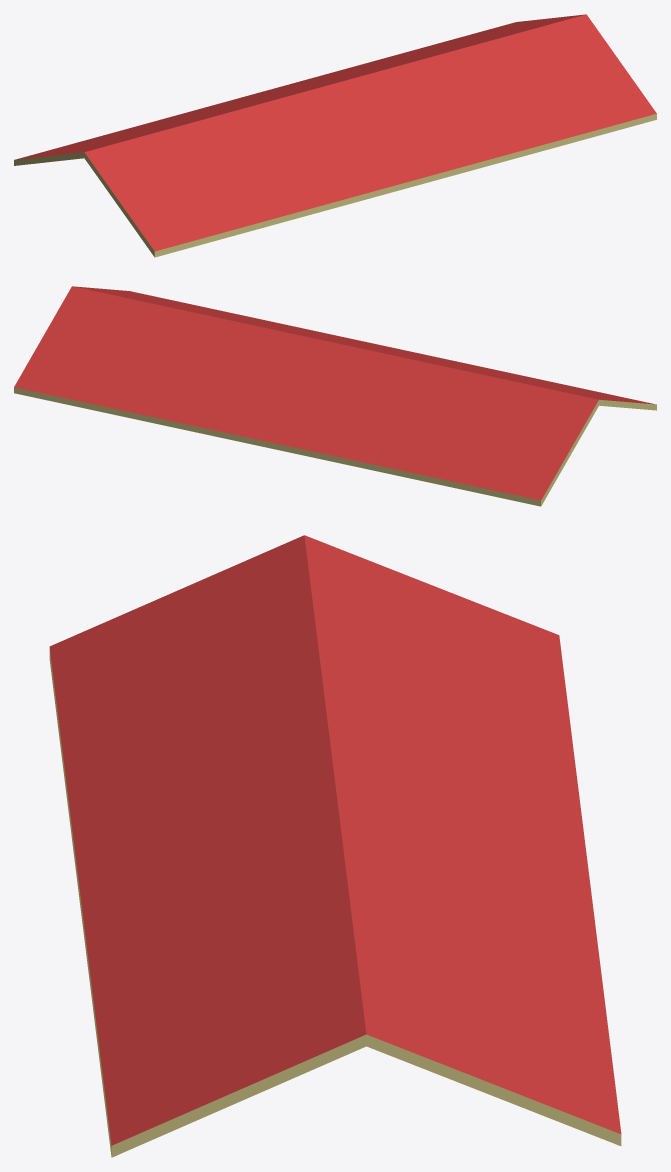
The picture shows the model from 3 angles, top to bottom: view 1: azimuth 30°, elevation 25°; view 2: azimuth 150°, elevation 25°; view 3: azimuth 270°, elevation 25°; orthographic projection. The views are drawn at different scales.
Bounding box in the file's own units: 9.11 × 4.31 × 0.98.
